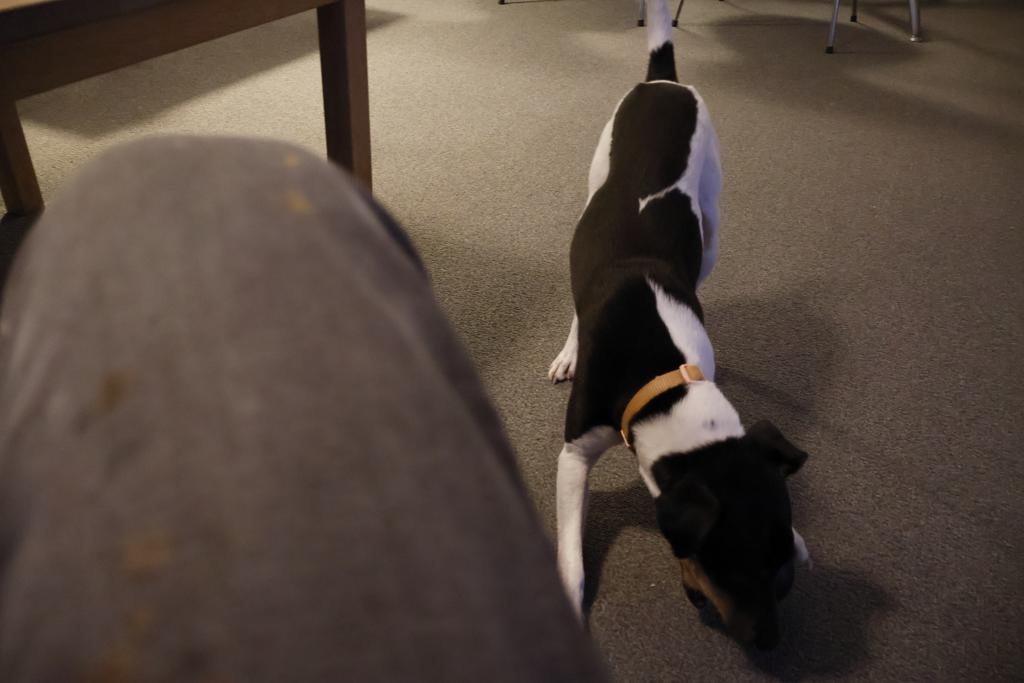Dog: (539, 0, 826, 657)
Humanoid: (0, 124, 648, 683)
